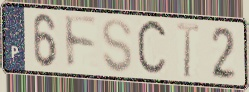2: (210, 25, 238, 82)
6: (32, 12, 59, 69)
C: (135, 17, 170, 80)
F: (62, 13, 99, 72)
S: (100, 16, 134, 75)
T: (175, 20, 201, 80)
